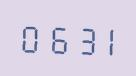one: (90, 20, 113, 57)
six: (42, 19, 65, 55)
three: (66, 19, 89, 56)
zero: (18, 18, 41, 55)
